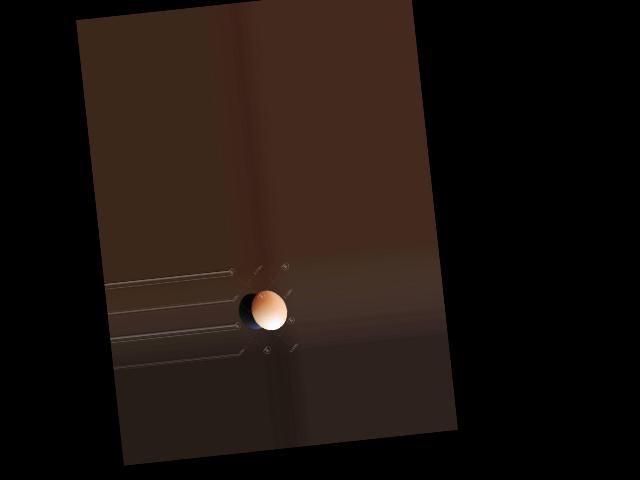egg: (248, 288, 288, 332)
